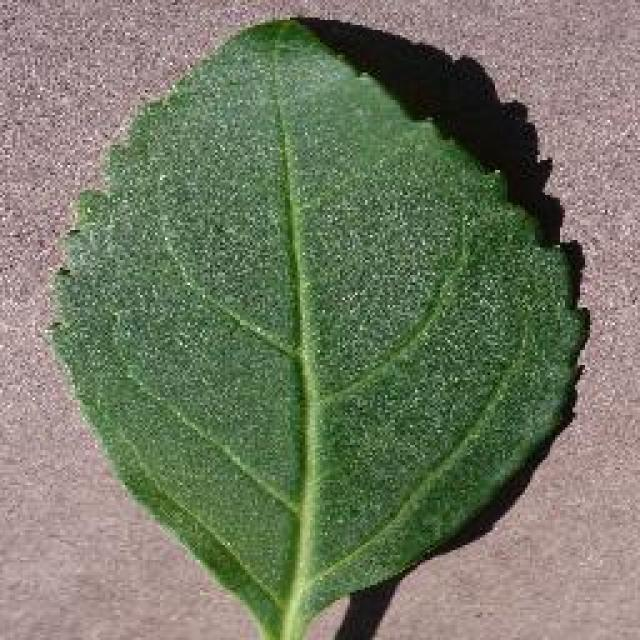Cherry___healthy: (30, 5, 600, 640)
